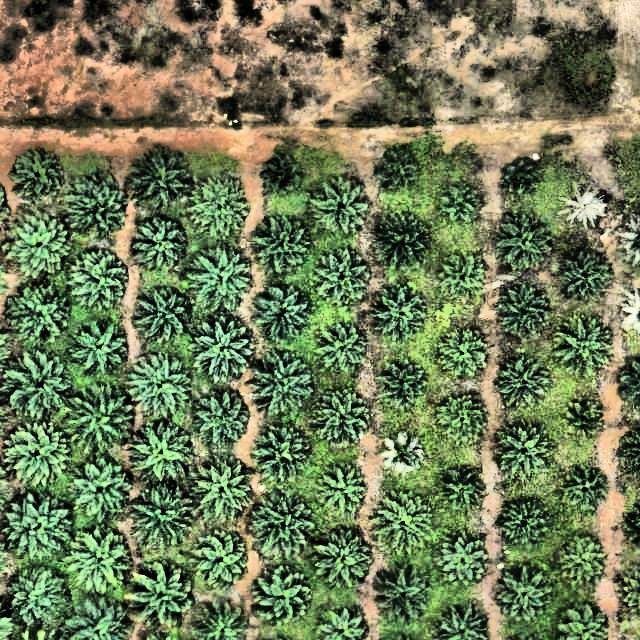Kelapa_Sawit: (5, 210, 75, 281), (7, 280, 77, 351), (68, 383, 138, 454), (124, 351, 194, 422), (125, 418, 195, 489), (130, 480, 200, 551), (247, 490, 317, 561), (7, 352, 77, 422), (6, 492, 76, 562), (126, 145, 196, 215), (189, 314, 259, 384), (247, 349, 317, 419), (127, 562, 197, 632), (1, 564, 71, 634), (9, 421, 71, 484), (69, 180, 131, 243), (72, 457, 134, 520), (132, 217, 194, 280), (134, 283, 196, 346), (190, 178, 252, 241), (192, 244, 254, 307), (250, 214, 312, 277), (252, 282, 314, 345), (251, 422, 313, 485), (311, 176, 373, 239), (375, 490, 437, 553), (430, 531, 492, 594), (371, 562, 433, 625), (68, 529, 130, 592), (69, 248, 131, 310), (71, 317, 133, 379), (191, 387, 253, 449), (192, 460, 254, 522), (494, 212, 556, 274), (555, 245, 617, 307), (555, 317, 617, 379), (314, 527, 376, 589), (250, 565, 312, 627), (190, 529, 252, 591), (436, 460, 491, 515), (316, 253, 371, 308), (375, 218, 430, 273), (373, 288, 428, 343), (437, 329, 492, 384), (435, 393, 490, 448), (499, 498, 554, 553), (496, 569, 551, 624), (9, 148, 63, 203), (314, 324, 368, 379), (316, 393, 370, 448), (497, 285, 551, 340), (496, 358, 550, 413), (497, 426, 551, 481), (67, 593, 126, 640), (320, 467, 366, 514), (560, 183, 606, 230), (193, 601, 248, 640), (439, 257, 485, 303), (564, 467, 610, 513), (379, 362, 425, 408), (380, 433, 426, 479), (559, 534, 605, 580), (433, 603, 487, 639), (561, 601, 611, 639), (316, 607, 366, 640), (380, 153, 419, 192), (440, 182, 479, 221), (265, 154, 304, 193), (565, 401, 604, 440), (500, 157, 538, 195)
